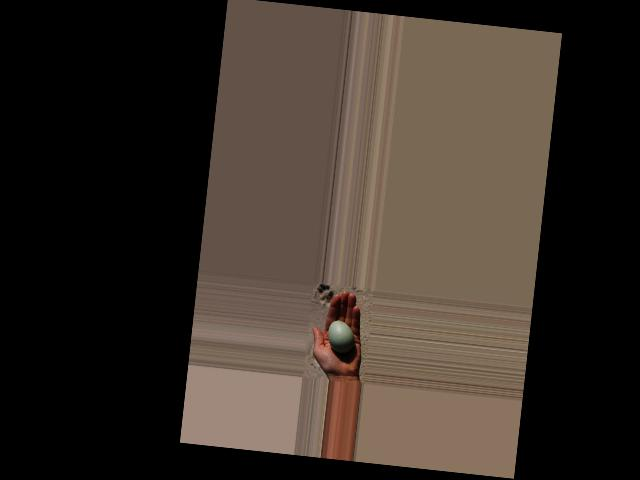egg: (327, 320, 356, 353)
